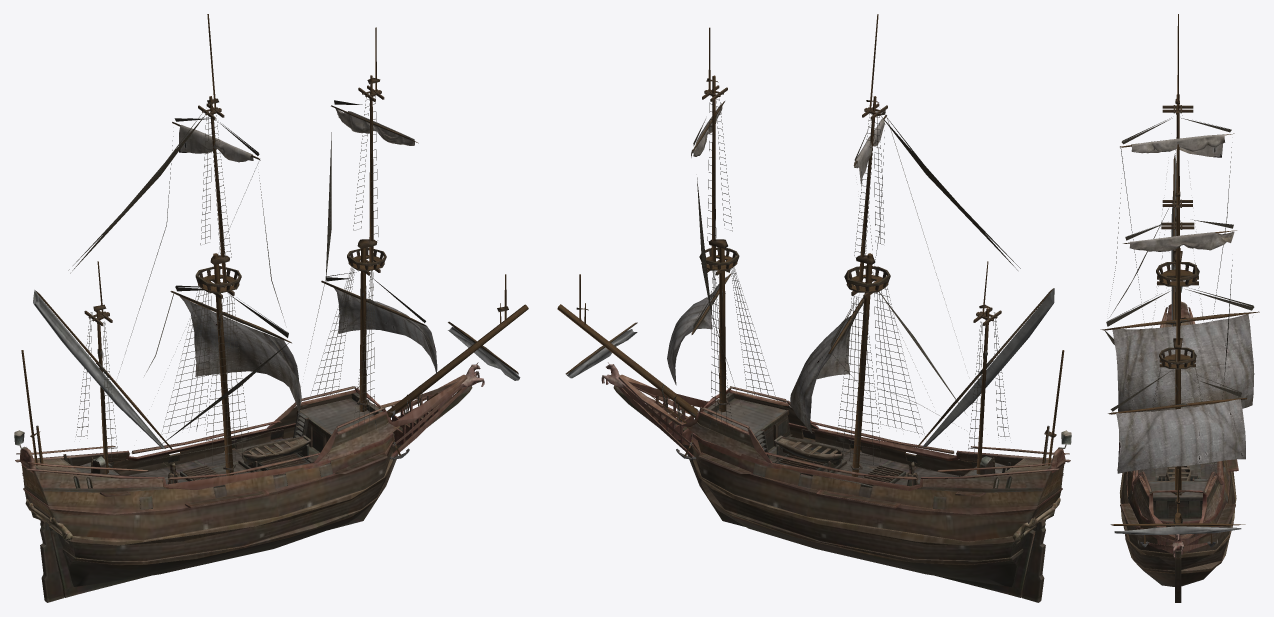
File: dutch_ship_medium.glb
3 renders of one model, left to right at view 1: azimuth 30°, elevation 25°; view 2: azimuth 150°, elevation 25°; view 3: azimuth 270°, elevation 25°, orthographic. The views are drawn at different scales.
Visible parts, largest first — view 1: dutch_ship_medium_hull, dutch_ship_medium_rigging, dutch_ship_medium_sails; view 2: dutch_ship_medium_hull, dutch_ship_medium_rigging, dutch_ship_medium_sails; view 3: dutch_ship_medium_sails, dutch_ship_medium_hull, dutch_ship_medium_rigging.
Part boxes in pixels (x1,y1,x2,y2): dutch_ship_medium_hull: (14,362,484,602); dutch_ship_medium_rigging: (21,14,528,475); dutch_ship_medium_sails: (179,108,437,417); dutch_ship_medium_hull: (601,362,1071,602); dutch_ship_medium_rigging: (557,14,1064,476); dutch_ship_medium_sails: (667,103,884,433); dutch_ship_medium_sails: (1112,134,1254,473); dutch_ship_medium_hull: (1117,286,1238,602); dutch_ship_medium_rigging: (1100,14,1259,547).
Size of the model in its own units: 24.07 by 24.54 by 6.81.
Materials: 3 (3 with a texture image).
